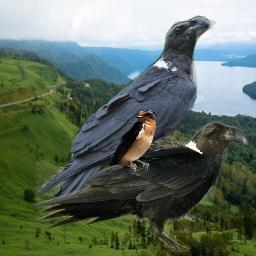Crow: (36, 14, 216, 221), (32, 120, 250, 255)
Swallow: (107, 108, 156, 172)
